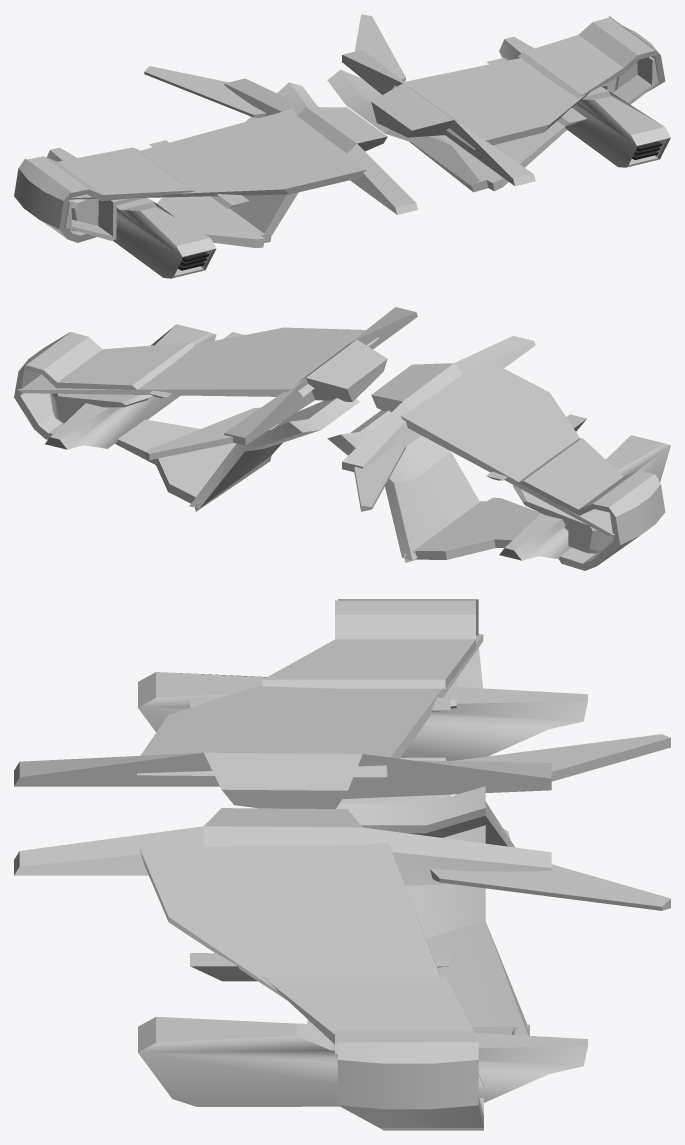
Rendered from wing09.FBX.
The picture shows the model from 3 angles, top to bottom: view 1: azimuth 30°, elevation 25°; view 2: azimuth 150°, elevation 25°; view 3: azimuth 270°, elevation 25°; orthographic projection. The views are drawn at different scales.
Parts seen in each view (by area): view 1: wing09; view 2: wing09; view 3: wing09.
Part boxes in pixels (bbox=[...]): wing09: bbox=[14, 14, 670, 278]; wing09: bbox=[14, 307, 670, 570]; wing09: bbox=[14, 599, 670, 1130].
Size of the model in its own units: 1228 by 209 by 729.
